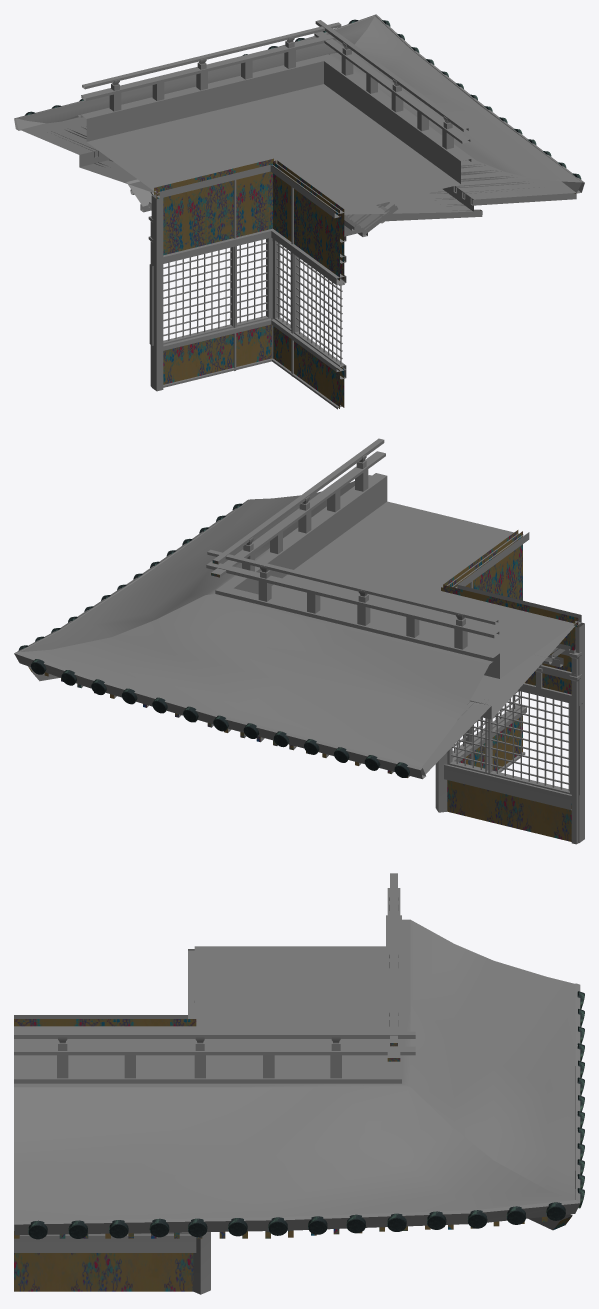
Rendered from FL1_Roof_Corner.fbx.
3 views of the same model, one above another, from view 1: azimuth 30°, elevation 25°; view 2: azimuth 150°, elevation 25°; view 3: azimuth 270°, elevation 25° (orthographic). The views are drawn at different scales.
Visible parts, largest first — view 1: FL1_Roof_Corner; view 2: FL1_Roof_Corner; view 3: FL1_Roof_Corner.
Boxes of the visible parts, left/top/right/bottom form: FL1_Roof_Corner: left=14, top=14, right=584, bottom=409; FL1_Roof_Corner: left=14, top=438, right=584, bottom=844; FL1_Roof_Corner: left=14, top=873, right=584, bottom=1294.
Bounding box in the file's own units: 776 × 505 × 768.
